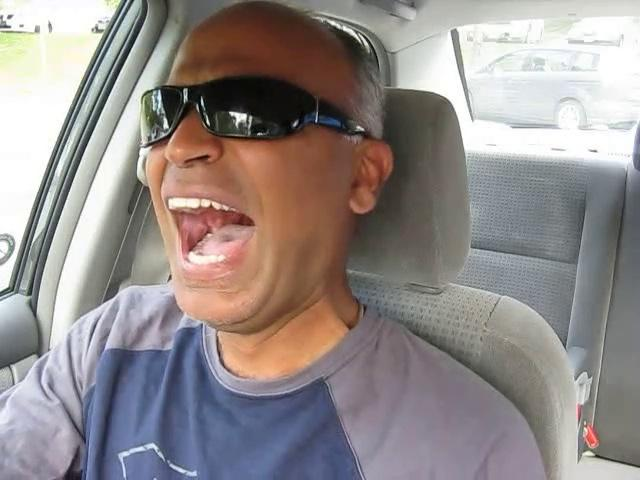yawn: (151, 181, 270, 279)
